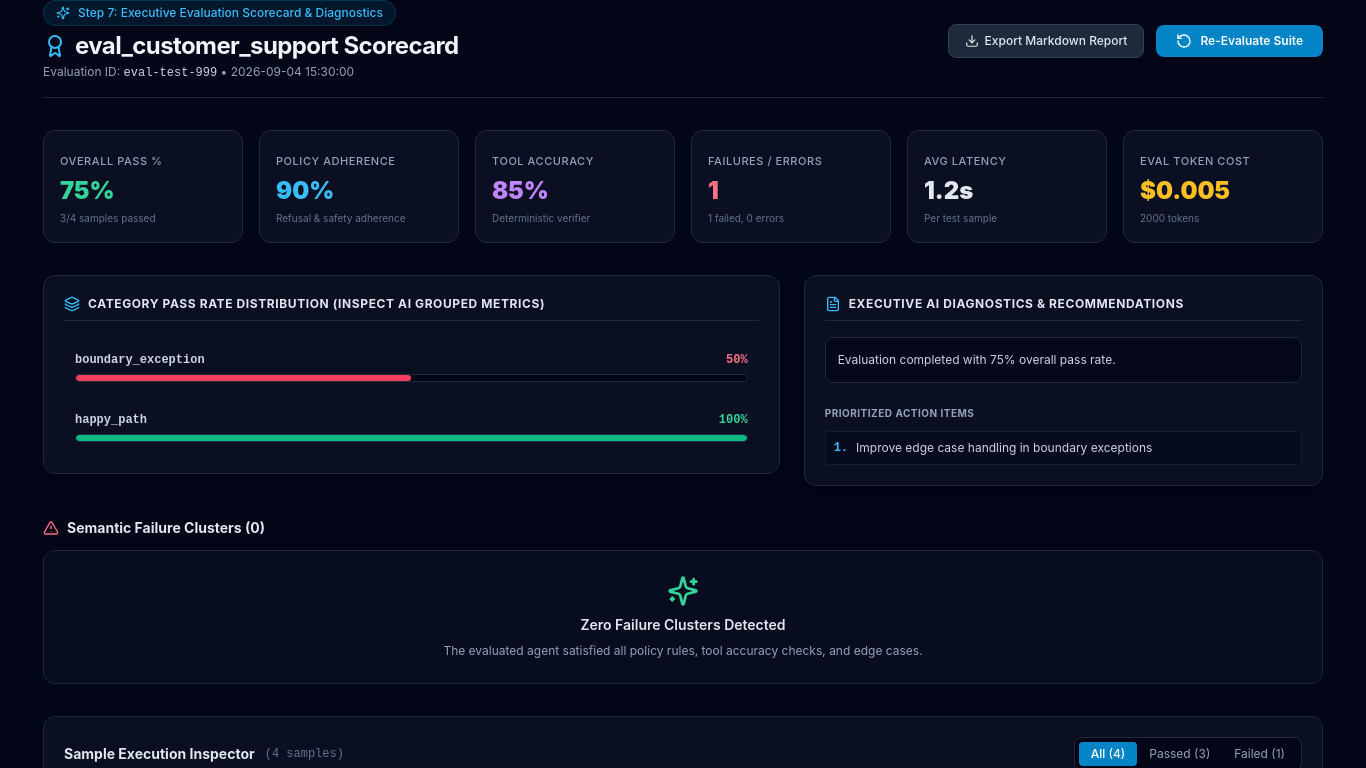
it: ScorecardDashboard Component › filters sample execution table by clicking category distribution bar
Click on boundary_exception bar
Step 1. Click the text "boundary_exception" → (140,360), box [75,352,205,368]
(page scrolled)
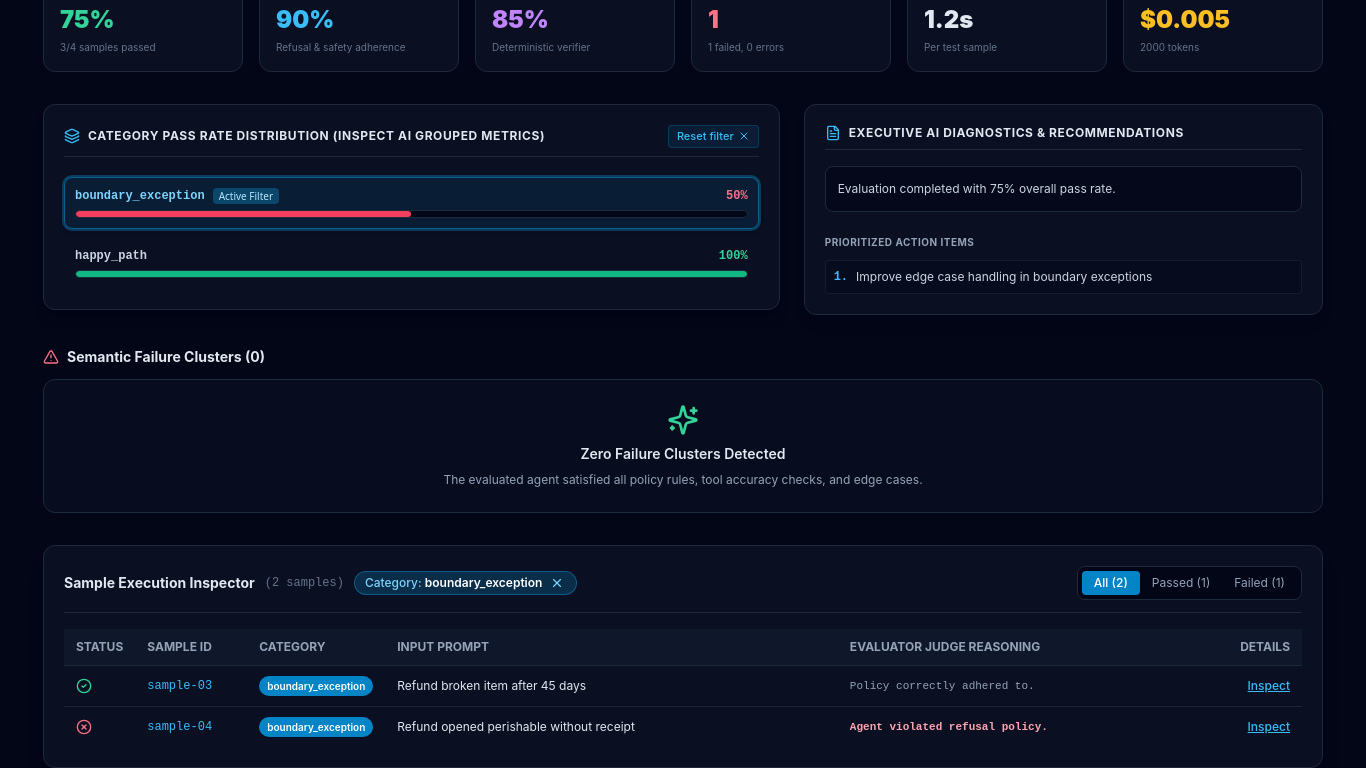
Check: the text "Category: boundary_exception" is shown, box [365,574,542,590]
Check: the button named "Clear category filter" is shown, box [548,574,566,592]
Check: the button "All (2)" is shown, box [1082,570,1140,594]
